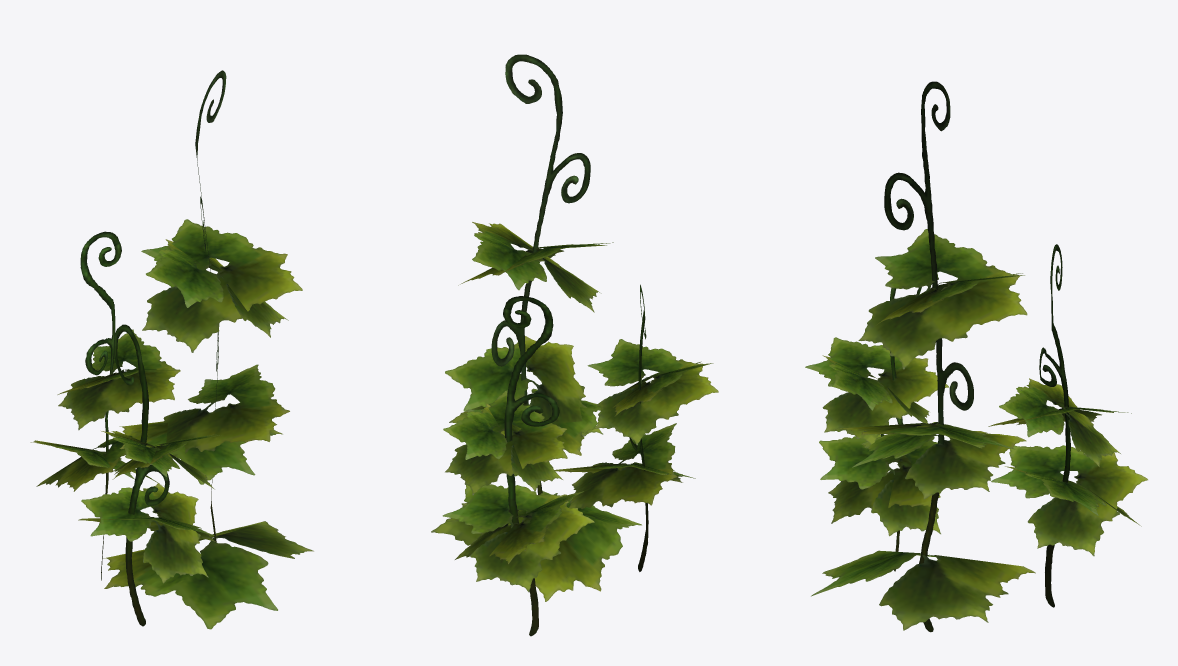
File: environment_grass_xiaocao_001_a.FBX
The picture shows the model from 3 angles, left to right: view 1: azimuth 30°, elevation 25°; view 2: azimuth 150°, elevation 25°; view 3: azimuth 270°, elevation 25°; orthographic projection. The views are drawn at different scales.
Parts seen in each view (by area): view 1: environment_grass_xiaocao_001_a1, environment_grass_xiaocao_001_b1, environment_grass_xiaocao_001_c1; view 2: environment_grass_xiaocao_001_a1, environment_grass_xiaocao_001_c1, environment_grass_xiaocao_001_b1; view 3: environment_grass_xiaocao_001_a1, environment_grass_xiaocao_001_c1, environment_grass_xiaocao_001_b1.
Part boxes in pixels (left/top/right/bottom): environment_grass_xiaocao_001_a1: left=103, top=70, right=313, bottom=629; environment_grass_xiaocao_001_b1: left=78, top=324, right=221, bottom=626; environment_grass_xiaocao_001_c1: left=30, top=231, right=180, bottom=580; environment_grass_xiaocao_001_a1: left=431, top=54, right=641, bottom=601; environment_grass_xiaocao_001_c1: left=442, top=296, right=594, bottom=636; environment_grass_xiaocao_001_b1: left=554, top=284, right=718, bottom=571; environment_grass_xiaocao_001_a1: left=811, top=81, right=1035, bottom=632; environment_grass_xiaocao_001_c1: left=988, top=244, right=1147, bottom=607; environment_grass_xiaocao_001_b1: left=805, top=287, right=949, bottom=571.
Bounding box in the file's own units: 87.27 × 176 × 104.
Materials: 1 (1 with a texture image).
